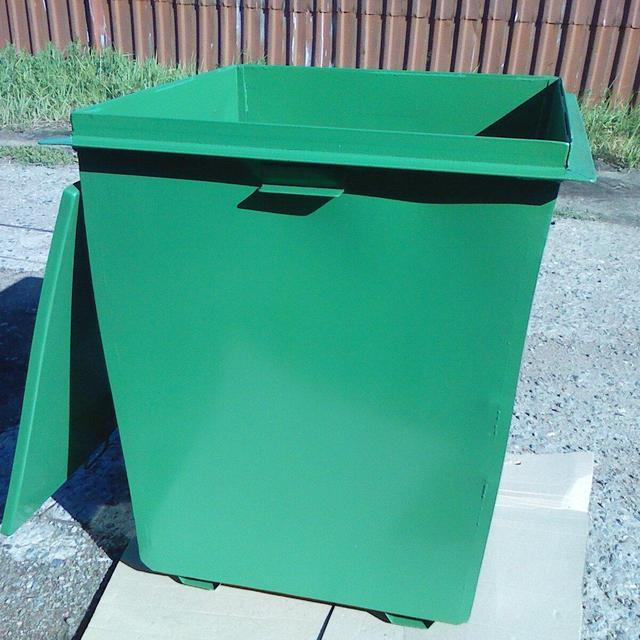Trash_Can_Empty: (70, 60, 600, 625)
